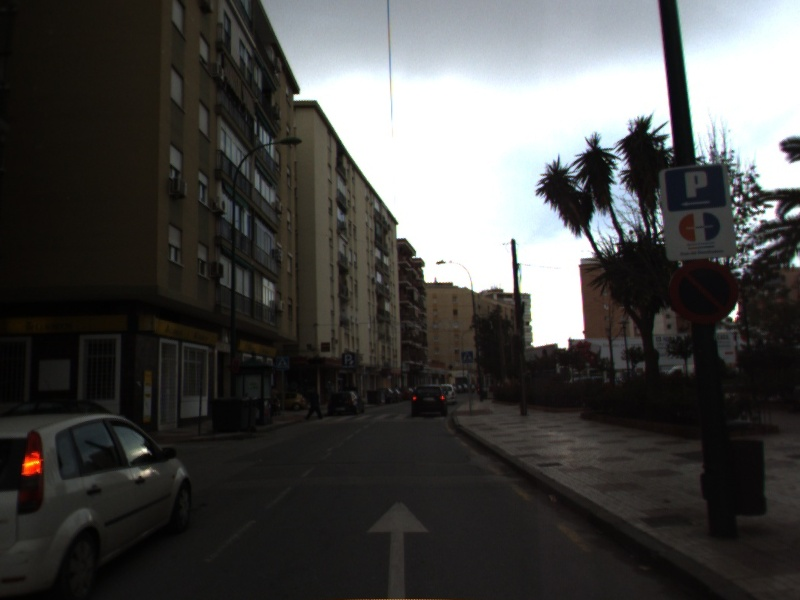STRAIGHT: (364, 498, 432, 600)
